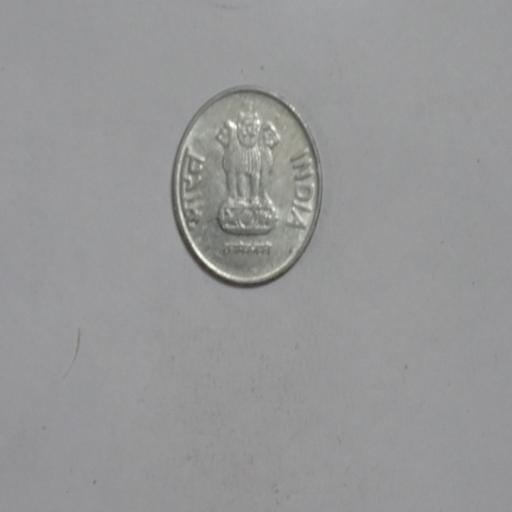rupee2: (169, 87, 320, 284)
